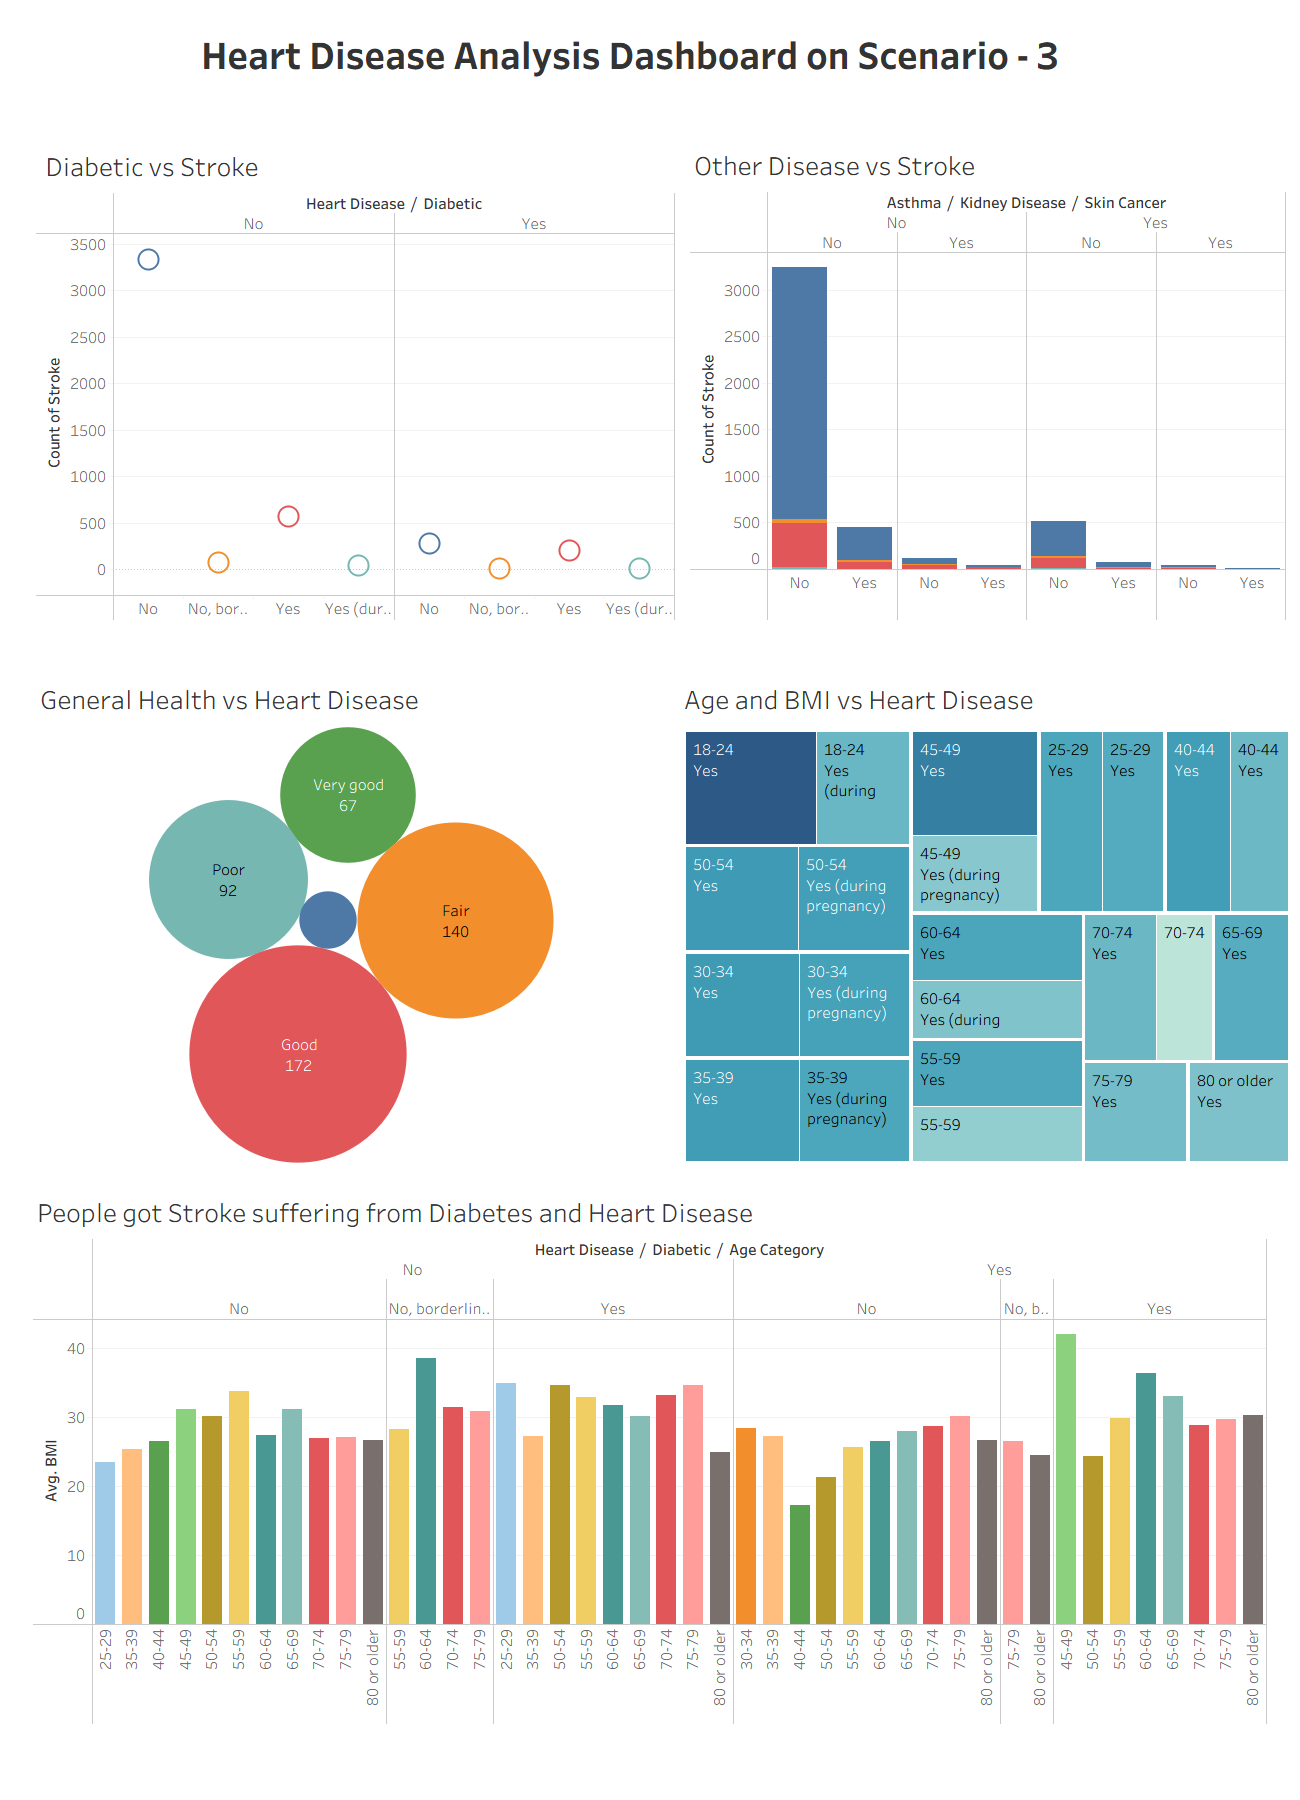

The dashboard page shown, as its layout file describes it:
{"tool":"tableau","page":{"name":"Dashboard 3","canvas":[1300,1800],"ordinal":2},"visuals":[{"type":"title","box":[54,11,1152,86]},{"type":"worksheet","title":"Other Disease vs Stroke","mark":"Automatic","rows":["Stroke"],"cols":["Asthma","KidneyDisease","SkinCancer"],"box":[690,142,596,479]},{"type":"worksheet","title":" Diabetic vs Stroke ","mark":"Shape","rows":["Stroke"],"cols":["HeartDisease","Diabetic"],"box":[36,143,639,478]},{"type":"worksheet","title":"General Health vs Heart Disease ","mark":"Circle","box":[36,676,630,487]},{"type":"worksheet","title":"Age and BMI vs Heart Disease","mark":"Automatic","box":[680,676,613,490]},{"type":"worksheet","title":"People got Stroke suffering from Diabetes and Heart Disease ","mark":"Automatic","rows":["BMI"],"cols":["HeartDisease","Diabetic","AgeCategory"],"box":[33,1189,1235,536]}]}

Visuals, with their boxes in screenshot pixels (x1, y1, x2, y2), scaled from the page's 1300x1800 canvas onto the 1300x1800 screenshot:
title: [54, 11, 1206, 97]
"Other Disease vs Stroke" worksheet: [690, 142, 1286, 621]
" Diabetic vs Stroke " worksheet (Shape marks): [36, 143, 675, 621]
"General Health vs Heart Disease " worksheet (Circle marks): [36, 676, 666, 1163]
"Age and BMI vs Heart Disease" worksheet: [680, 676, 1293, 1166]
"People got Stroke suffering from Diabetes and Heart Disease " worksheet: [33, 1189, 1268, 1725]
